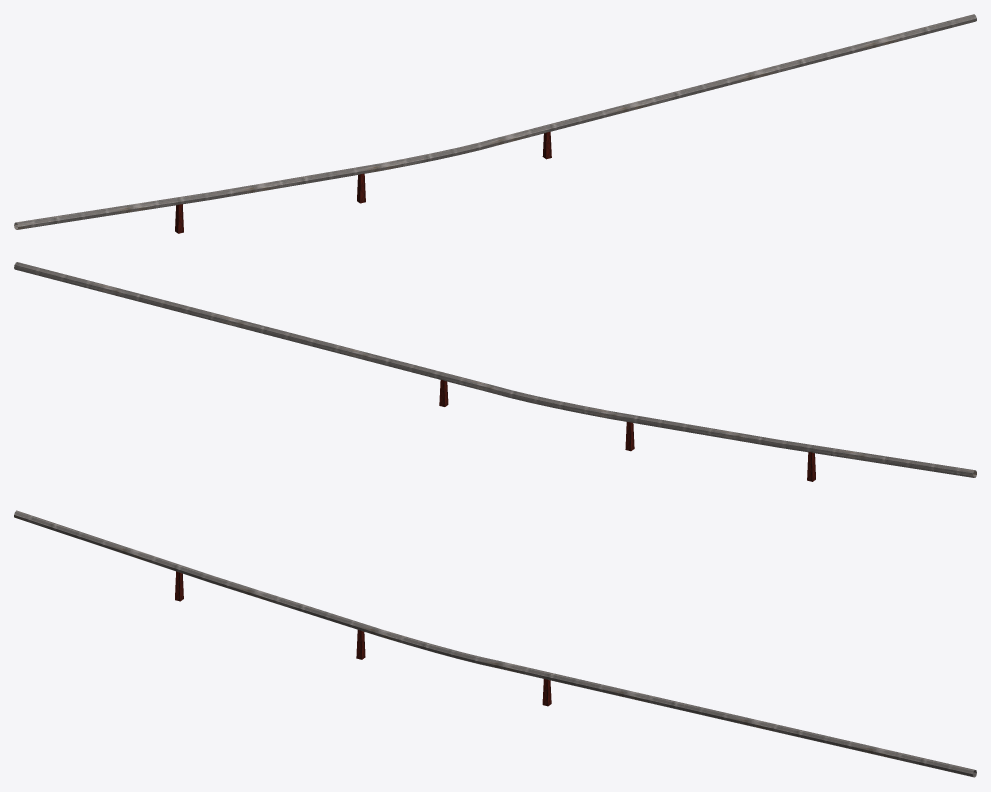
File: des_oilpipe_02.obj
3 views of the same model, one above another, from view 1: azimuth 30°, elevation 25°; view 2: azimuth 150°, elevation 25°; view 3: azimuth 330°, elevation 25° (orthographic).
Parts seen in each view (by area): view 1: des_oilpipe_02; view 2: des_oilpipe_02; view 3: des_oilpipe_02.
Part boxes in pixels (left/top/right/bottom): des_oilpipe_02: left=14, top=14, right=976, bottom=233; des_oilpipe_02: left=14, top=262, right=976, bottom=481; des_oilpipe_02: left=14, top=510, right=976, bottom=777.
Bounding box in the file's own units: 153 × 9.77 × 1.08.
2 materials, 2 textured.
